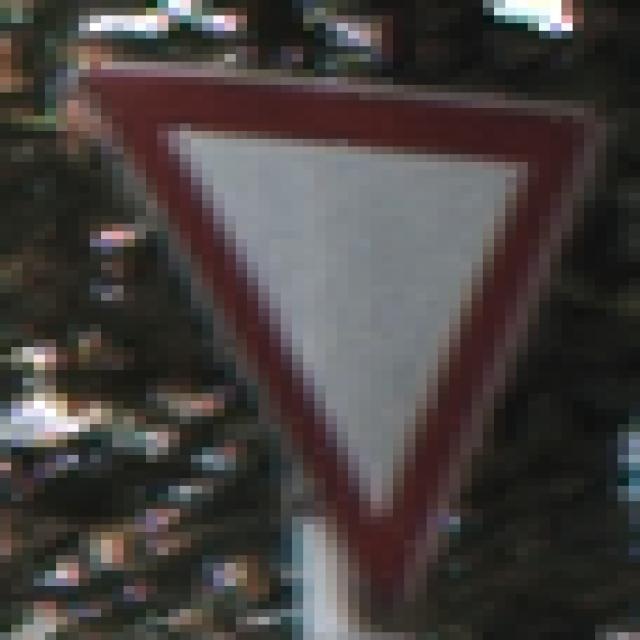Give Way: (68, 63, 585, 587)
